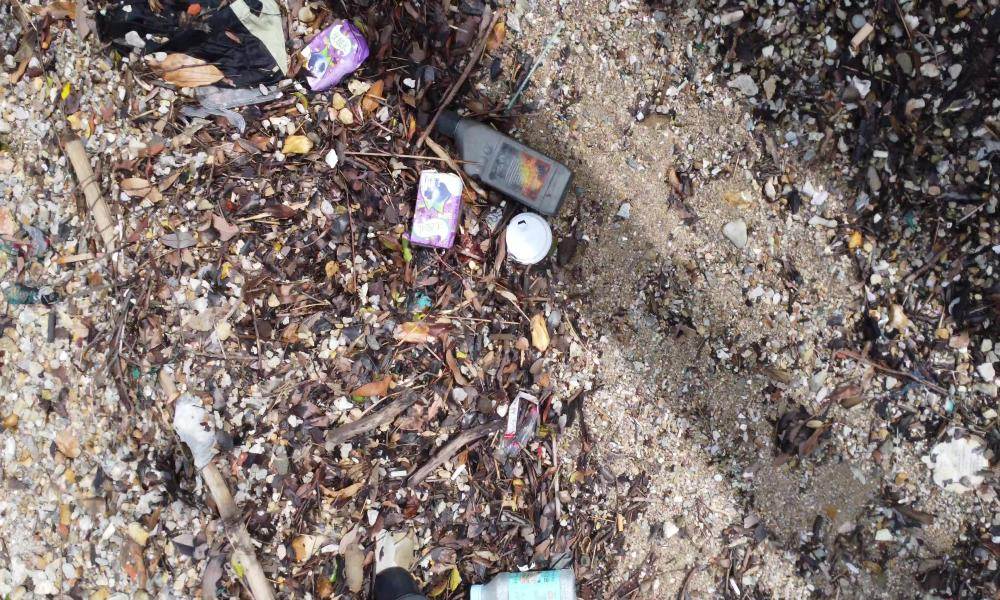carton: (295, 11, 370, 99), (405, 165, 472, 253)
plastic bottle: (424, 96, 565, 217), (470, 565, 581, 600)
plastic container: (502, 210, 550, 267)
